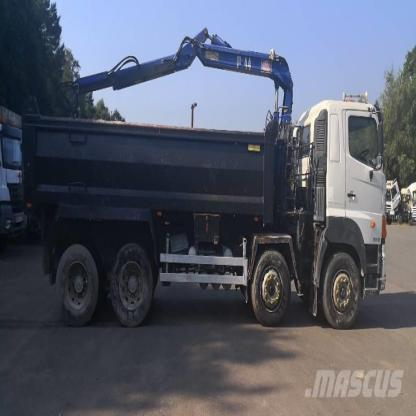dump_truck: (15, 28, 393, 345)
